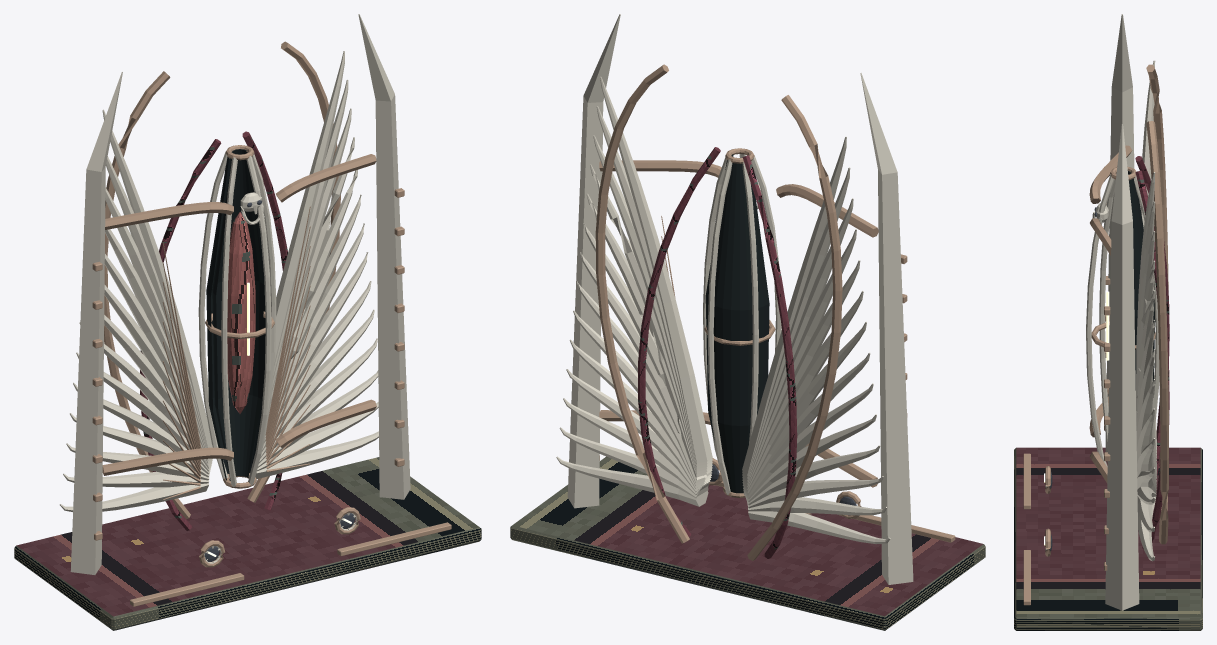
Rendered from inversion_winged_cradle.glb.
3 renders of one model, left to right at view 1: azimuth 30°, elevation 25°; view 2: azimuth 150°, elevation 25°; view 3: azimuth 270°, elevation 25°, orthographic. The views are drawn at different scales.
Parts seen in each view (by area): view 1: inversion_winged_cradle_warm, inversion_winged_cradle_petrol, inversion_winged_cradle_worn, inversion_winged_cradle_suture, inversion_winged_cradle_bruised; view 2: inversion_winged_cradle_warm, inversion_winged_cradle_petrol, inversion_winged_cradle_worn, inversion_winged_cradle_bruised; view 3: inversion_winged_cradle_petrol, inversion_winged_cradle_warm, inversion_winged_cradle_worn, inversion_winged_cradle_bruised.
Boxes of the visible parts, x1,y1,x2,y2 form: inversion_winged_cradle_warm: (59, 14, 410, 574); inversion_winged_cradle_petrol: (14, 149, 481, 630); inversion_winged_cradle_worn: (92, 41, 451, 606); inversion_winged_cradle_suture: (227, 212, 255, 413); inversion_winged_cradle_bruised: (140, 131, 287, 530); inversion_winged_cradle_warm: (556, 14, 913, 584); inversion_winged_cradle_petrol: (510, 154, 985, 630); inversion_winged_cradle_worn: (595, 64, 955, 560); inversion_winged_cradle_bruised: (638, 147, 797, 558); inversion_winged_cradle_petrol: (1014, 171, 1202, 630); inversion_winged_cradle_warm: (1045, 14, 1159, 610); inversion_winged_cradle_worn: (1023, 64, 1168, 605); inversion_winged_cradle_bruised: (1135, 156, 1169, 549).
Size of the model in its own units: 6.45 by 8.36 by 3.
Materials: 7 (3 with a texture image).
